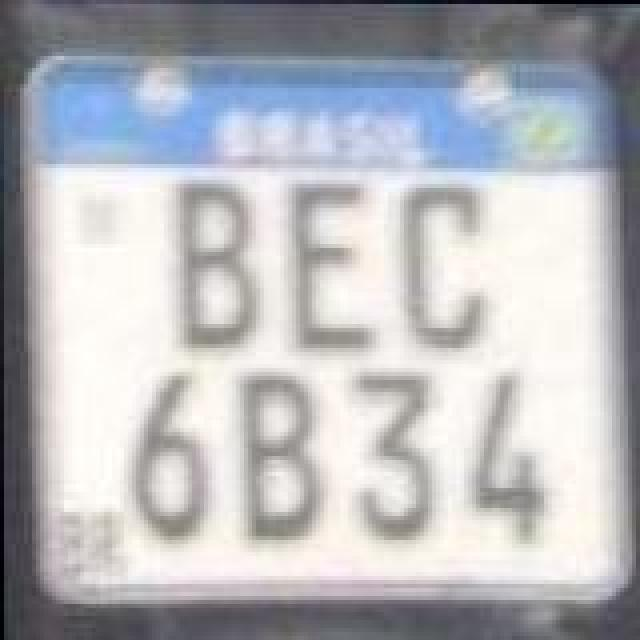3: (344, 368, 436, 540)
4: (464, 372, 548, 544)
6: (128, 370, 212, 534)
B: (240, 372, 324, 544), (180, 182, 256, 350)
C: (400, 186, 492, 346)
E: (282, 180, 378, 352)
